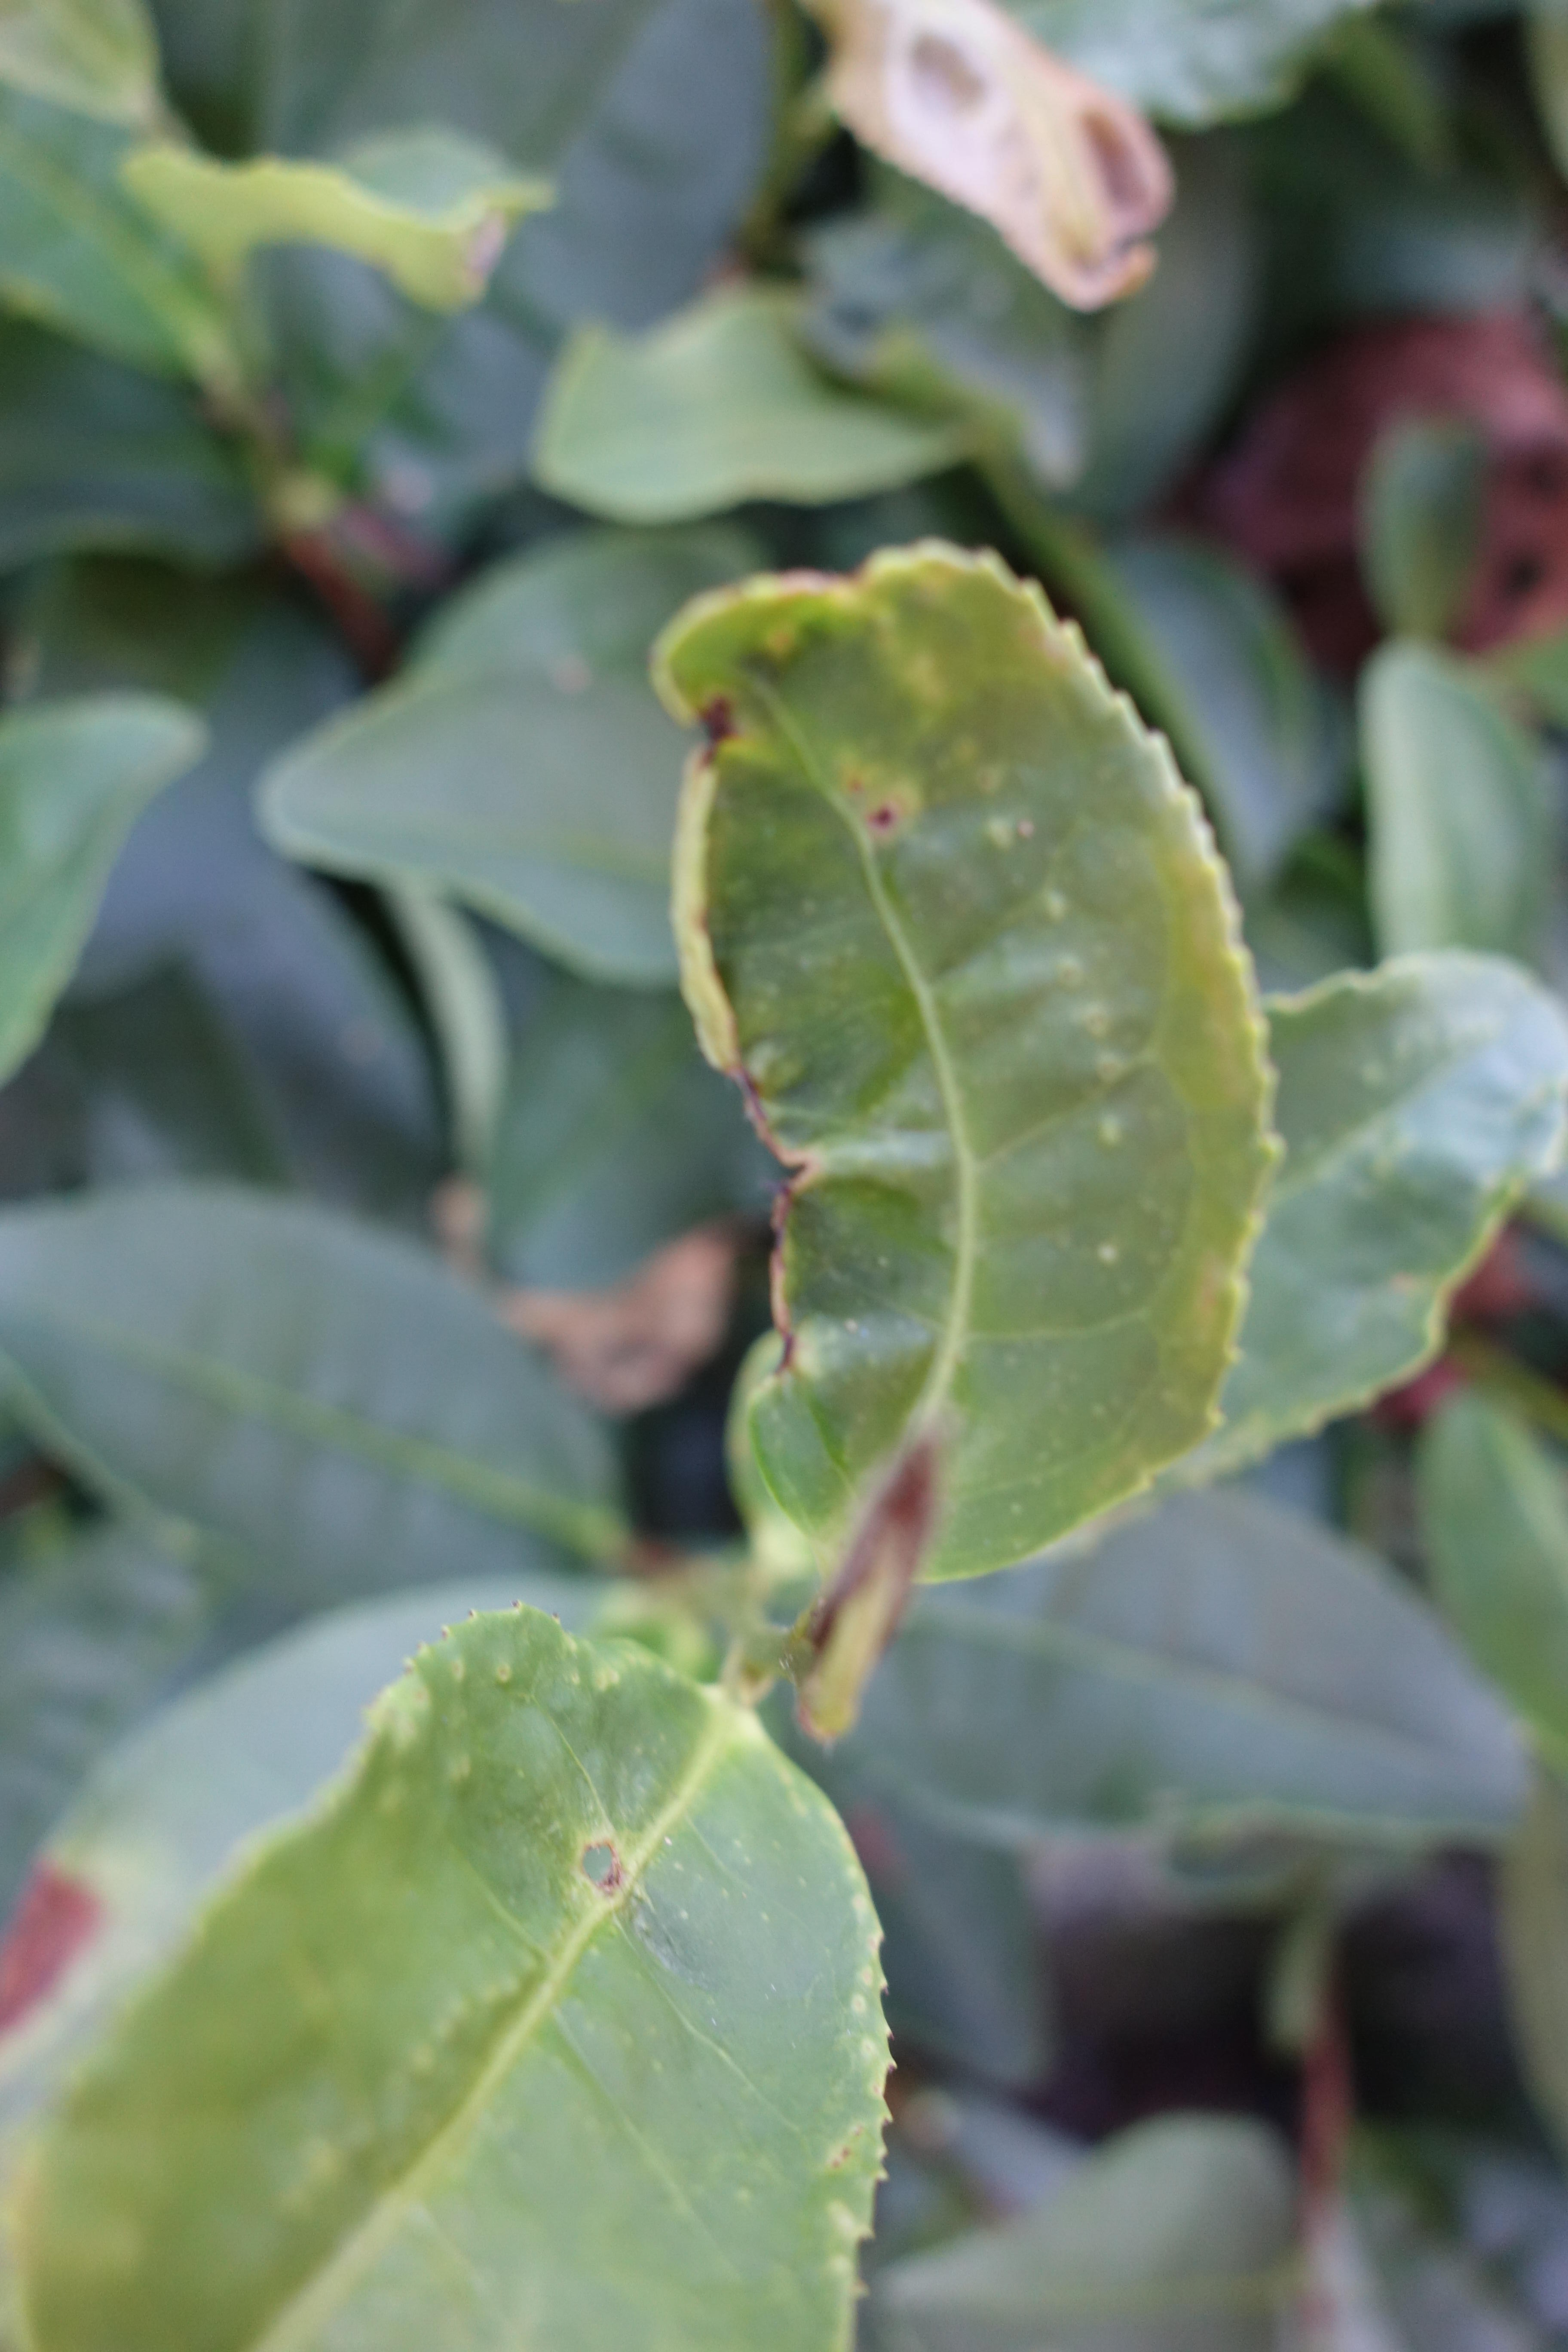chihuo_high: (653, 541, 1284, 1591)
